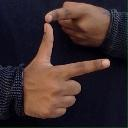hand: (22, 22, 110, 119), (44, 1, 110, 47)
